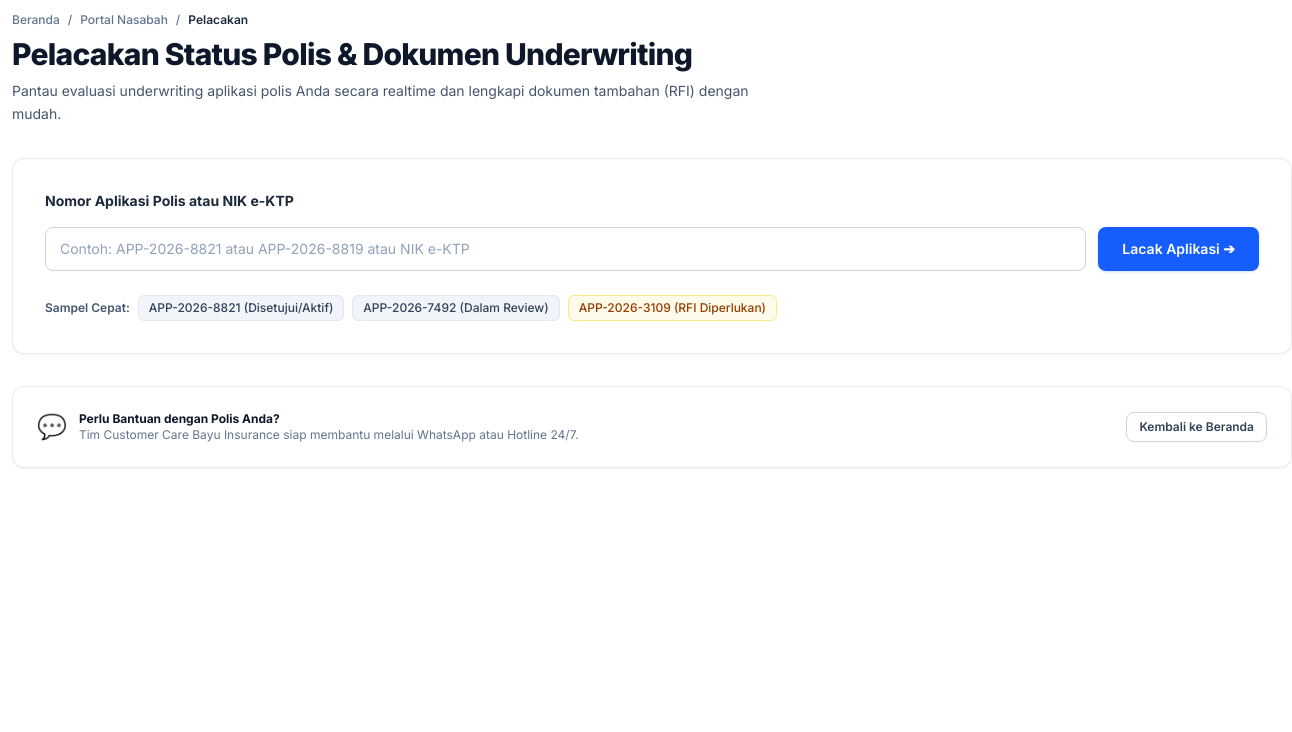
Scenario: TrackingPage & TrackingWorkbench › displays not found message when searching for non-existent application
Type "APP-NOTFOUND-999" into the field with placeholder "Contoh: APP-2026-8821 atau APP-2026-8819 atau NIK e-KTP".
click(566, 248); type("APP-NOTFOUND-999")  # box [45,226,1086,270]
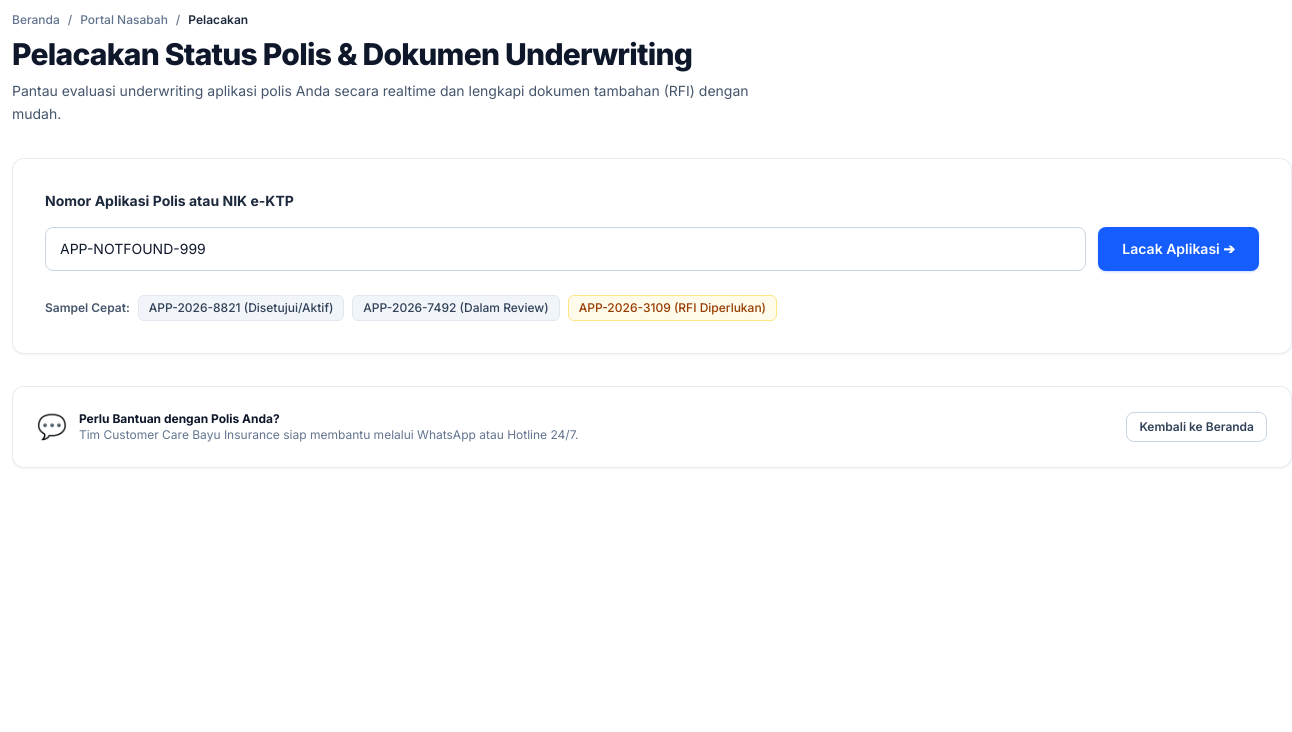
Click the button named "Lacak Status".
click(1179, 248)  # box [1098,226,1259,270]
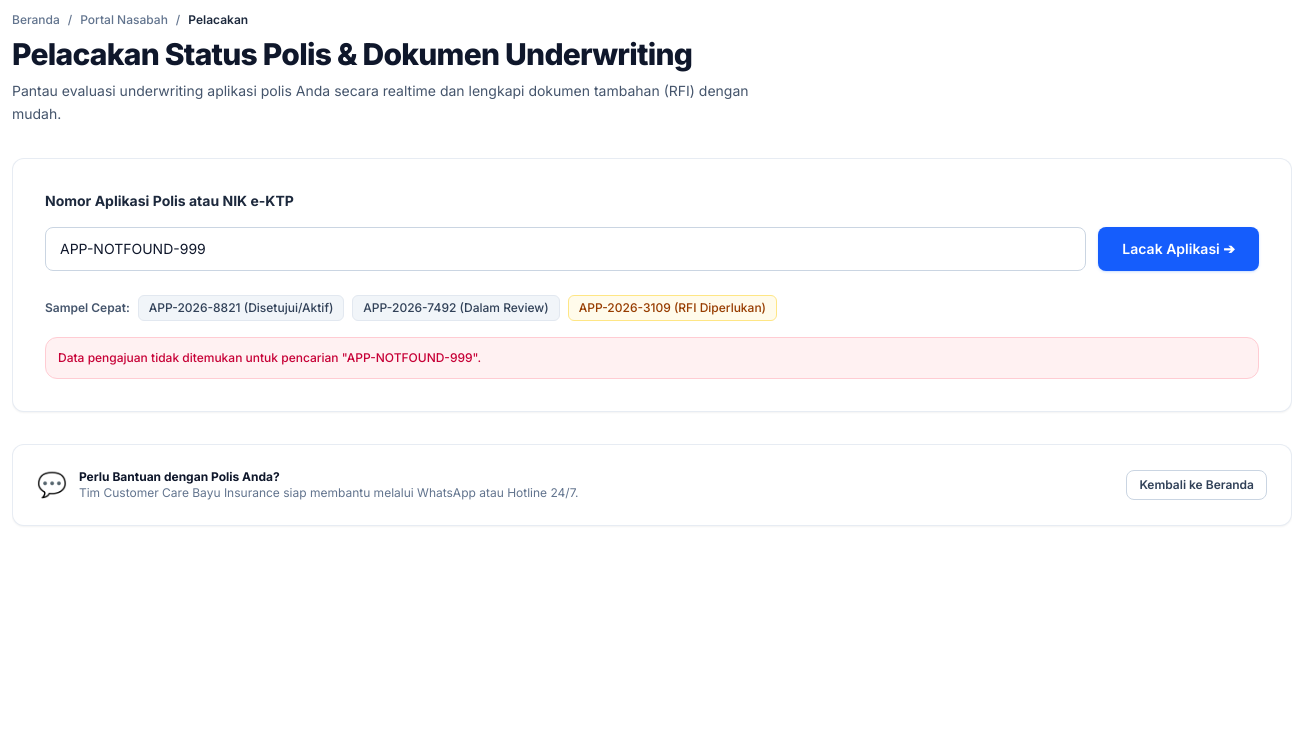
Result: the text "Data pengajuan tidak ditemukan" is shown at [58,350,481,364]
